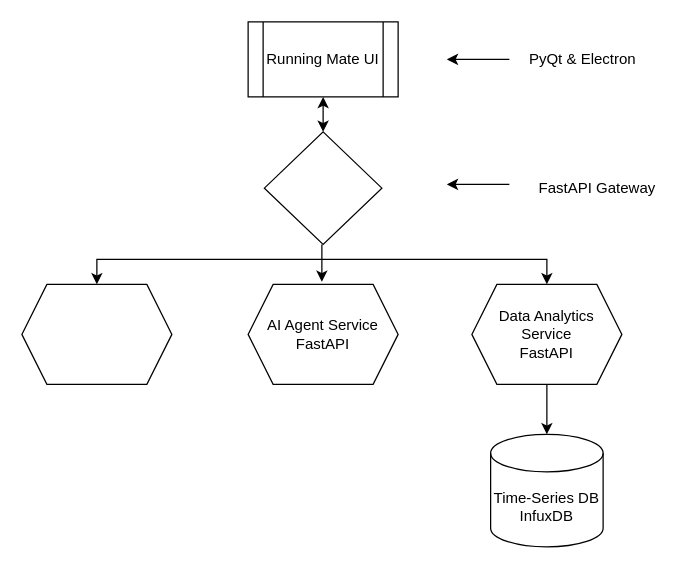
Image size: 694x569. Some labels were removed from this diagram. Each missing label, with the centre of its shape:
"API Gateway" belongs at point 322,187.
"Strava Service FastAPI" belongs at point 96,333.
